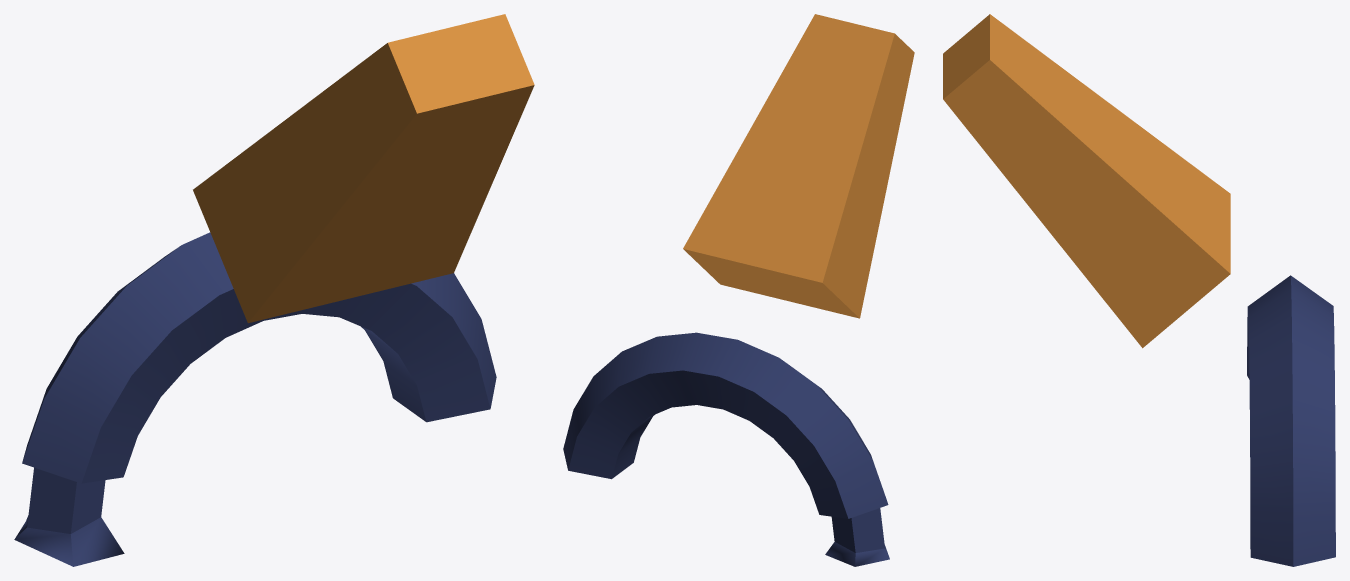
Rendered from Dead_Drone_Parts.fbx.
3 views of the same model, side by side, from view 1: azimuth 30°, elevation 25°; view 2: azimuth 150°, elevation 25°; view 3: azimuth 270°, elevation 25° (orthographic). The views are drawn at different scales.
Visible parts, largest first — view 1: Arms, Booster; view 2: Arms, Booster; view 3: Arms, Booster.
Part boxes in pixels (<box>): Arms: <box>193,14,534,323</box>; Booster: <box>14,232,496,566</box>; Arms: <box>683,14,914,318</box>; Booster: <box>563,332,889,566</box>; Arms: <box>943,14,1230,348</box>; Booster: <box>1247,275,1335,566</box>.
Bounding box in the file's own units: 2.48 × 3.02 × 2.19.
